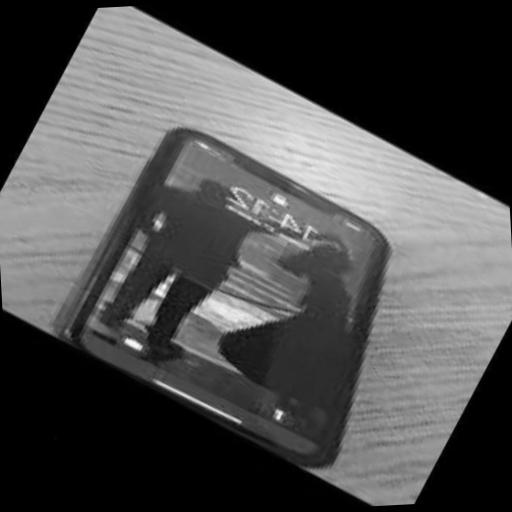phone: (47, 112, 405, 484)
